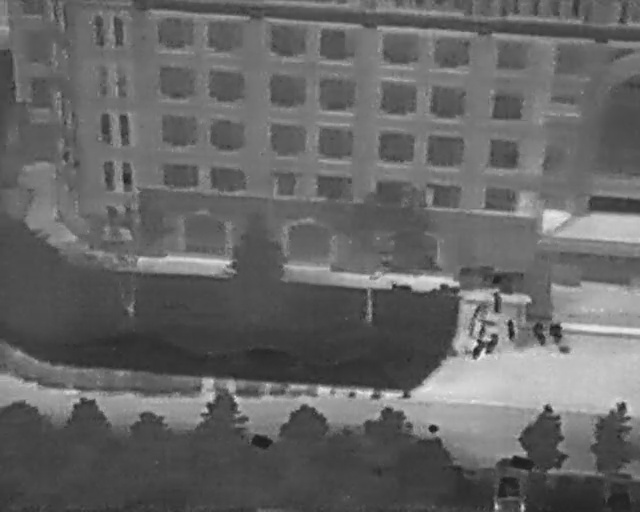Bicycle: (480, 330, 502, 358), (546, 318, 567, 347), (531, 319, 550, 347), (467, 299, 488, 324), (467, 338, 488, 362), (474, 320, 490, 342), (504, 318, 518, 343), (465, 316, 479, 339), (492, 289, 504, 313)
Car: (490, 469, 527, 510), (601, 471, 635, 510)
